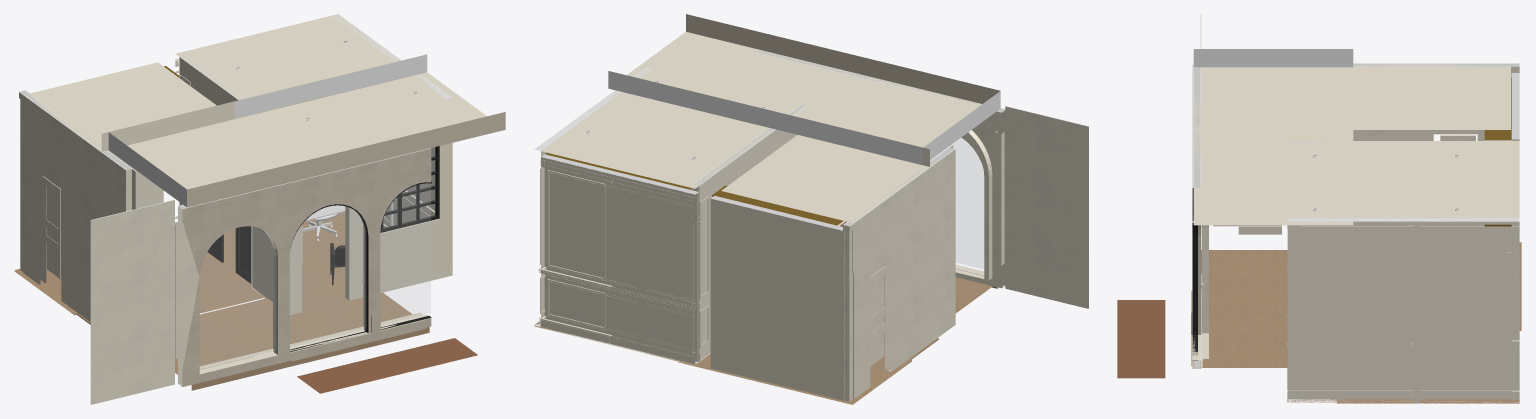
The model's file is office-east-04eefb9c7bda.glb.
The picture shows the model from 3 angles, left to right: view 1: azimuth 30°, elevation 25°; view 2: azimuth 150°, elevation 25°; view 3: azimuth 270°, elevation 25°; orthographic projection. The views are drawn at different scales.
Visible parts, largest first — view 1: office-east-look-dbd60ee5c3733ed6, office-east-look-c9e78b9ec1bb39cd, office-east-look-d5a4a1b5d3594c04, office-east-look-6a051330000fbca1, office-east-look-2575515a05775d9e, office-east-2575515a05775d9e, office-east-look-38561c12898e4d43, office-east-look-c02a36d0521470a9, office-east-look-c374268555806af8, office-east-7dc307bfa7ee071d, office-east-look-5cbcc744e6f960f3, office-east-dbd60ee5c3733ed6 (+15 smaller); view 2: office-east-look-dbd60ee5c3733ed6, office-east-look-19647d6da46c2b80, office-east-19647d6da46c2b80, office-east-look-6a051330000fbca1, office-east-look-d5a4a1b5d3594c04, office-east-2575515a05775d9e, office-east-look-2575515a05775d9e, office-east-72f8f5982ac3dc36, office-east-look-38561c12898e4d43, office-east-look-c9e78b9ec1bb39cd, office-east-dbd60ee5c3733ed6, office-east-look-1109284a531c9f8c (+16 smaller); view 3: office-east-6a1144f4e43410bb, office-east-look-dbd60ee5c3733ed6, office-east-2575515a05775d9e, office-east-look-2575515a05775d9e, office-east-look-c374268555806af8, office-east-dbd60ee5c3733ed6, office-east-look-aee2d046b0172b1e, office-east-2c29ddcb8551cb02, office-east-7dc307bfa7ee071d, office-east-look-c9e78b9ec1bb39cd, office-east-e54d813e60c9e7c4, office-east-look-6a051330000fbca1 (+13 smaller).
Boxes of the visible parts, <box> form: office-east-look-dbd60ee5c3733ed6: <box>108,54,505,207</box>; office-east-look-c9e78b9ec1bb39cd: <box>178,148,431,386</box>; office-east-look-d5a4a1b5d3594c04: <box>90,199,174,404</box>; office-east-look-6a051330000fbca1: <box>19,90,136,321</box>; office-east-look-2575515a05775d9e: <box>24,62,235,151</box>; office-east-2575515a05775d9e: <box>175,14,420,113</box>; office-east-look-38561c12898e4d43: <box>200,226,276,369</box>; office-east-look-c02a36d0521470a9: <box>290,205,366,347</box>; office-east-look-c374268555806af8: <box>175,292,429,390</box>; office-east-7dc307bfa7ee071d: <box>293,97,445,313</box>; office-east-look-5cbcc744e6f960f3: <box>380,183,430,324</box>; office-east-dbd60ee5c3733ed6: <box>264,74,445,137</box>; office-east-look-dbd60ee5c3733ed6: <box>608,14,1000,165</box>; office-east-look-19647d6da46c2b80: <box>710,195,842,400</box>; office-east-19647d6da46c2b80: <box>541,154,698,364</box>; office-east-look-6a051330000fbca1: <box>843,144,955,401</box>; office-east-look-d5a4a1b5d3594c04: <box>1005,106,1088,308</box>; office-east-2575515a05775d9e: <box>541,91,774,188</box>; office-east-look-2575515a05775d9e: <box>721,135,929,222</box>; office-east-72f8f5982ac3dc36: <box>692,104,807,361</box>; office-east-look-38561c12898e4d43: <box>930,138,983,269</box>; office-east-look-c9e78b9ec1bb39cd: <box>756,50,1005,288</box>; office-east-dbd60ee5c3733ed6: <box>615,67,793,129</box>; office-east-look-1109284a531c9f8c: <box>955,130,992,280</box>; office-east-6a1144f4e43410bb: <box>1287,218,1519,402</box>; office-east-look-dbd60ee5c3733ed6: <box>1193,49,1353,225</box>; office-east-2575515a05775d9e: <box>1353,141,1519,221</box>; office-east-look-2575515a05775d9e: <box>1353,63,1510,129</box>; office-east-look-c374268555806af8: <box>1201,250,1287,367</box>; office-east-dbd60ee5c3733ed6: <box>1287,141,1353,221</box>; office-east-look-aee2d046b0172b1e: <box>1117,300,1165,378</box>; office-east-2c29ddcb8551cb02: <box>1287,390,1519,399</box>; office-east-7dc307bfa7ee071d: <box>1287,144,1295,390</box>; office-east-look-c9e78b9ec1bb39cd: <box>1192,64,1201,368</box>; office-east-e54d813e60c9e7c4: <box>1300,226,1519,234</box>; office-east-look-6a051330000fbca1: <box>1353,63,1519,140</box>.
Bounding box in the file's own units: 7.25 × 3.4 × 6.07.
Materials: 22 (4 with a texture image).
